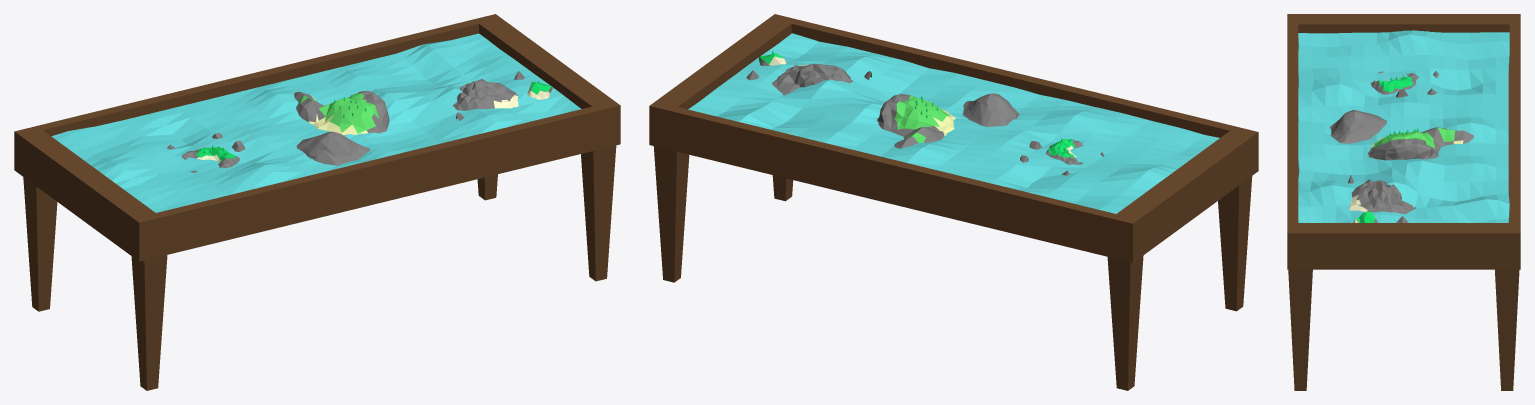
The model's file is Spawn_Map.fbx.
3 views of the same model, side by side, from view 1: azimuth 30°, elevation 25°; view 2: azimuth 150°, elevation 25°; view 3: azimuth 270°, elevation 25° (orthographic). The views are drawn at different scales.
Visible parts, largest first — view 1: Cube.001, Plane.002, Plane.001, Plane; view 2: Cube.001, Plane.002, Plane.001, Plane; view 3: Cube.001, Plane.002, Plane.001, Plane.
Boxes of the visible parts, left/top/right/bottom form: Cube.001: left=14, top=14, right=620, bottom=390; Plane.002: left=294, top=90, right=389, bottom=165; Plane.001: left=453, top=71, right=552, bottom=120; Plane: left=167, top=133, right=245, bottom=172; Cube.001: left=649, top=14, right=1258, bottom=390; Plane.002: left=877, top=93, right=1019, bottom=148; Plane.001: left=746, top=53, right=871, bottom=95; Plane: left=1020, top=139, right=1104, bottom=175; Cube.001: left=1287, top=14, right=1520, bottom=390; Plane.002: left=1329, top=110, right=1473, bottom=160; Plane.001: left=1348, top=175, right=1416, bottom=222; Plane: left=1370, top=71, right=1438, bottom=97.
Size of the model in its own units: 668 by 245 by 300.
